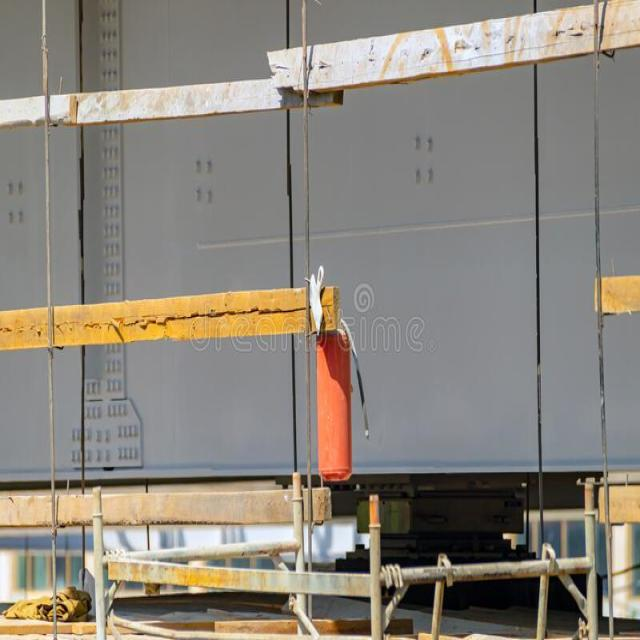fire_extinguisher: (316, 287, 369, 484)
